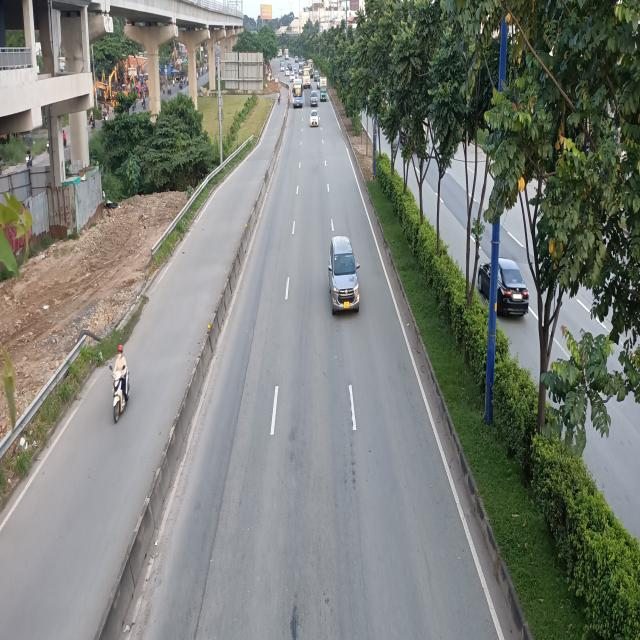car: (330, 236, 360, 315), (310, 110, 320, 127), (310, 90, 319, 106)
coach: (292, 81, 304, 108)
truck: (319, 76, 328, 102)
